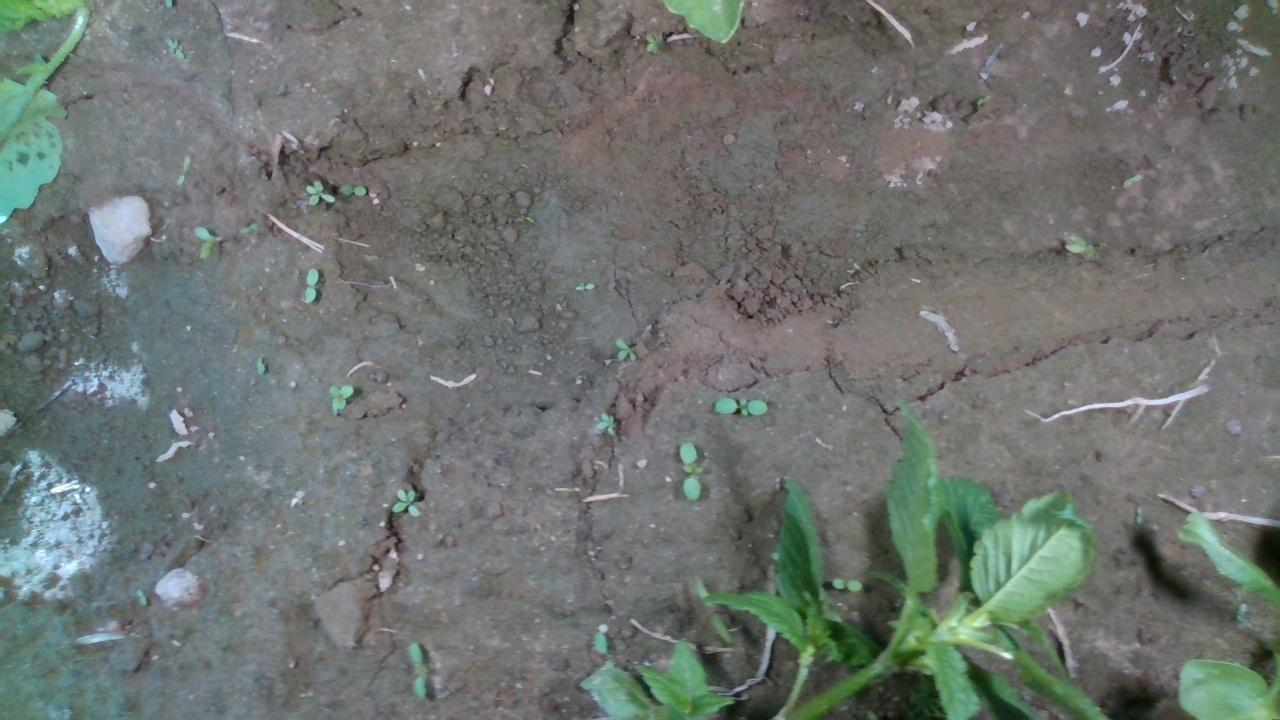weed: (677, 440, 704, 502), (404, 638, 427, 702), (712, 396, 769, 417), (326, 383, 355, 416), (192, 224, 217, 261), (390, 485, 419, 516), (303, 179, 335, 207), (173, 150, 192, 186), (301, 267, 319, 305), (613, 337, 636, 361), (830, 576, 864, 592), (595, 410, 617, 434), (335, 182, 367, 196), (573, 279, 595, 292)
